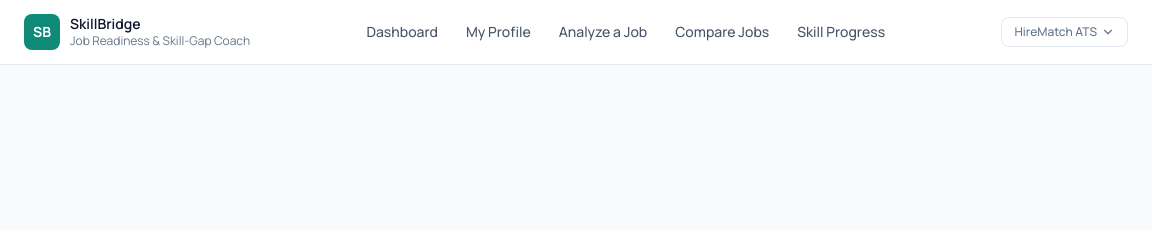
Test: Header › keeps the ATS reachable behind a separate, clearly-labeled menu
Click the button "HireMatch ATS": (1065, 32) x1=1002 y1=17 x2=1128 y2=47
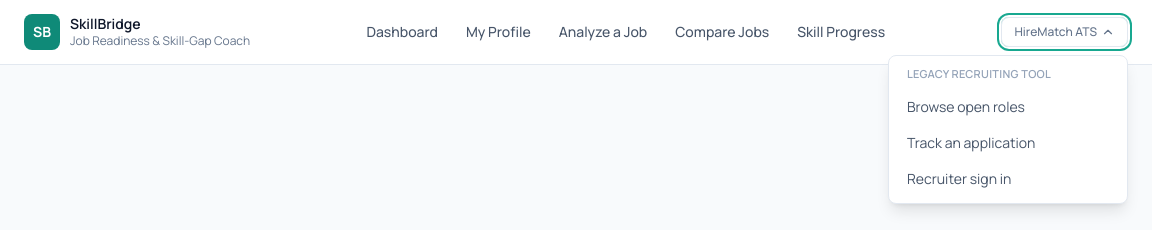
Check: the button "HireMatch ATS" is expanded, box x1=1002 y1=17 x2=1128 y2=47
